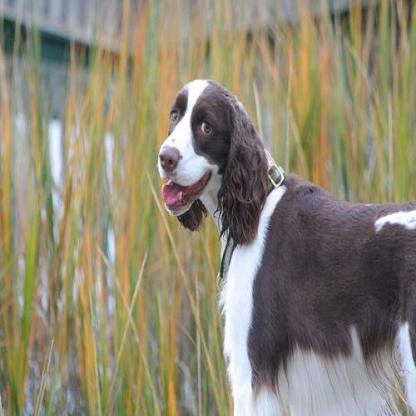English_springer: (155, 73, 414, 414)
